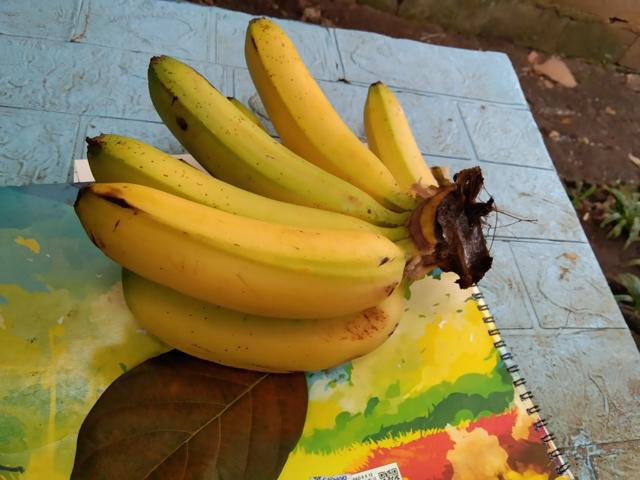freshripe: (112, 267, 403, 387), (239, 10, 389, 201)
ripe: (65, 170, 399, 328)
